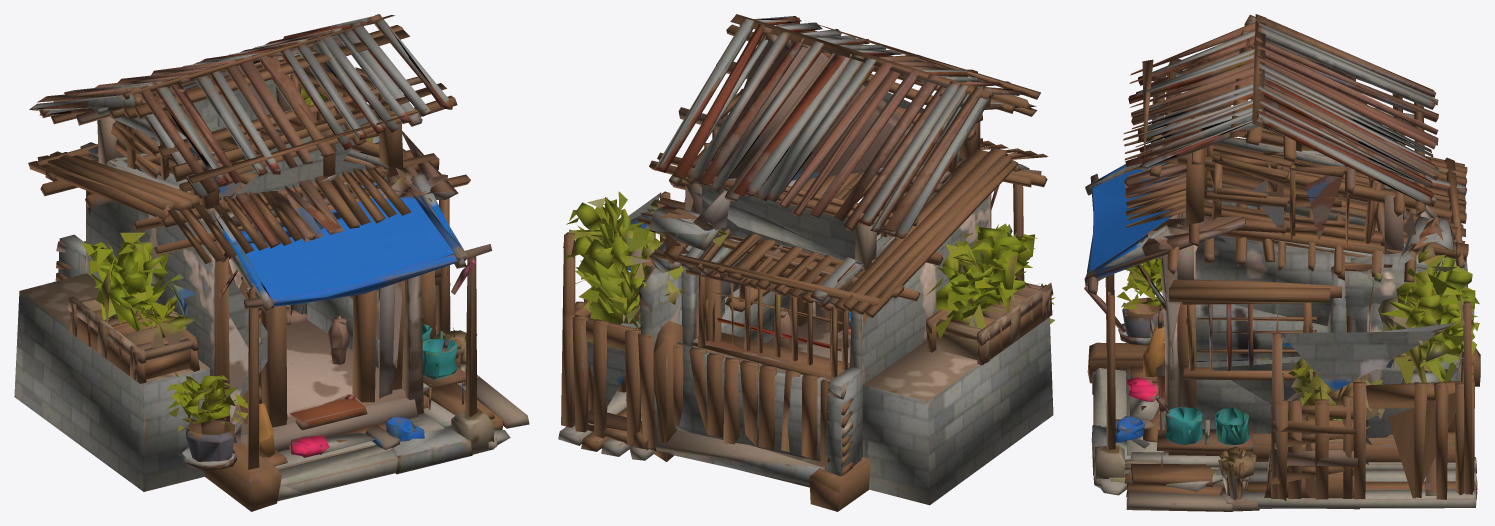
The model's file is house_2.glb.
The picture shows the model from 3 angles, left to right: view 1: azimuth 30°, elevation 25°; view 2: azimuth 150°, elevation 25°; view 3: azimuth 270°, elevation 25°; orthographic projection. The views are drawn at different scales.
Visible parts, largest first — view 1: Mesh0; view 2: Mesh0; view 3: Mesh0.
Boxes of the visible parts, box(x1,y1,x2,y2) form: Mesh0: box(14, 14, 529, 511); Mesh0: box(558, 14, 1055, 511); Mesh0: box(1084, 14, 1480, 511).
Size of the model in its own units: 1 by 0.9964 by 1.
1 material, 1 textured.
